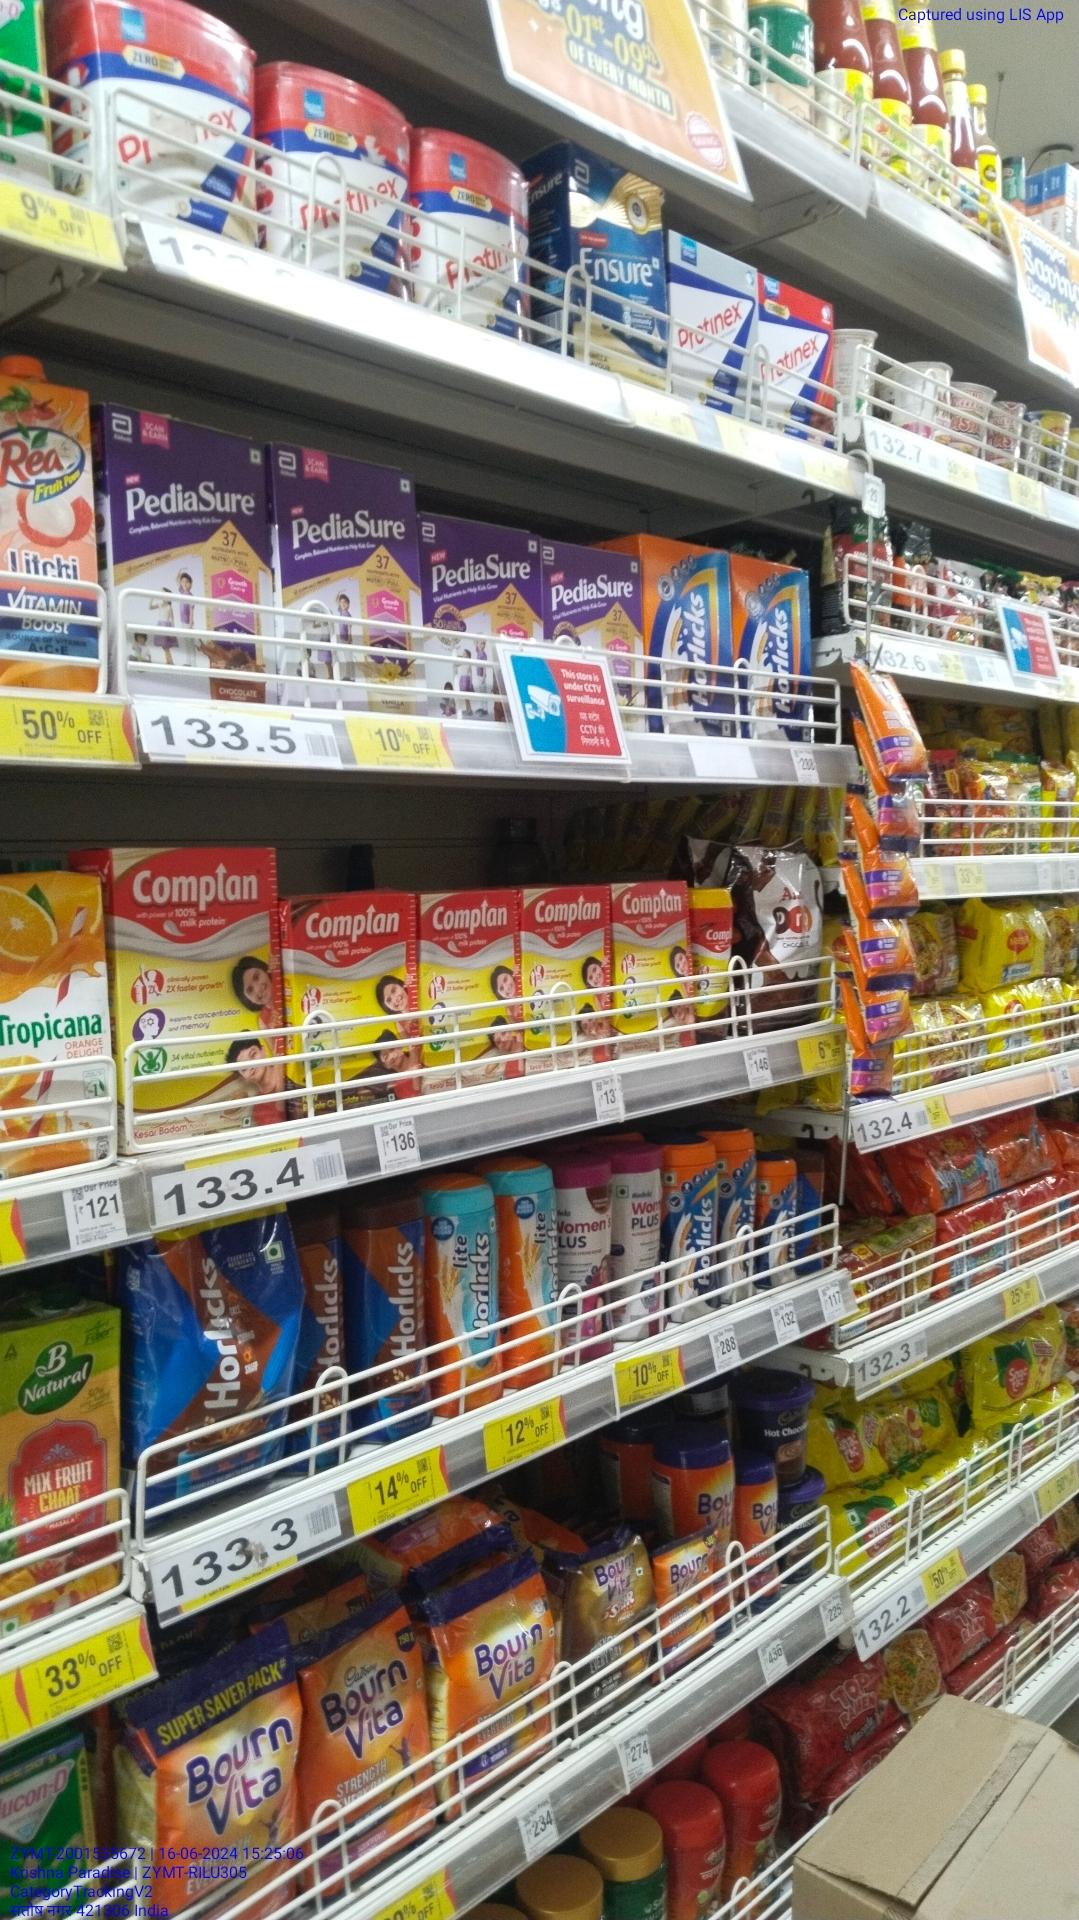ENSURE_VANILLA_400_G_PACK: (567, 175, 665, 371)
HORLICKS_LITE_REGULAR_MALT_500_GM_JAR: (445, 1175, 497, 1416), (510, 1164, 565, 1395)
HORLICK_CLASSIC_MALT_200_G_JAR: (761, 1155, 802, 1287)
HORLICK_CLASSIC_MALT_500_G_JAR: (673, 1138, 714, 1324), (723, 1126, 752, 1302)
HORLICK_CLASSIC_MALT_500_G_PACK: (642, 531, 736, 737), (736, 560, 817, 733)
PEDIASURE_CHOCOLATE_500_G_PACK: (103, 402, 266, 708)
PEDIASURE_VANILLA_500_G_PACK: (278, 440, 431, 707)
PROTINEX_VANILLA_400_G_JAR: (74, 25, 251, 216), (265, 59, 408, 295), (422, 125, 528, 336)
